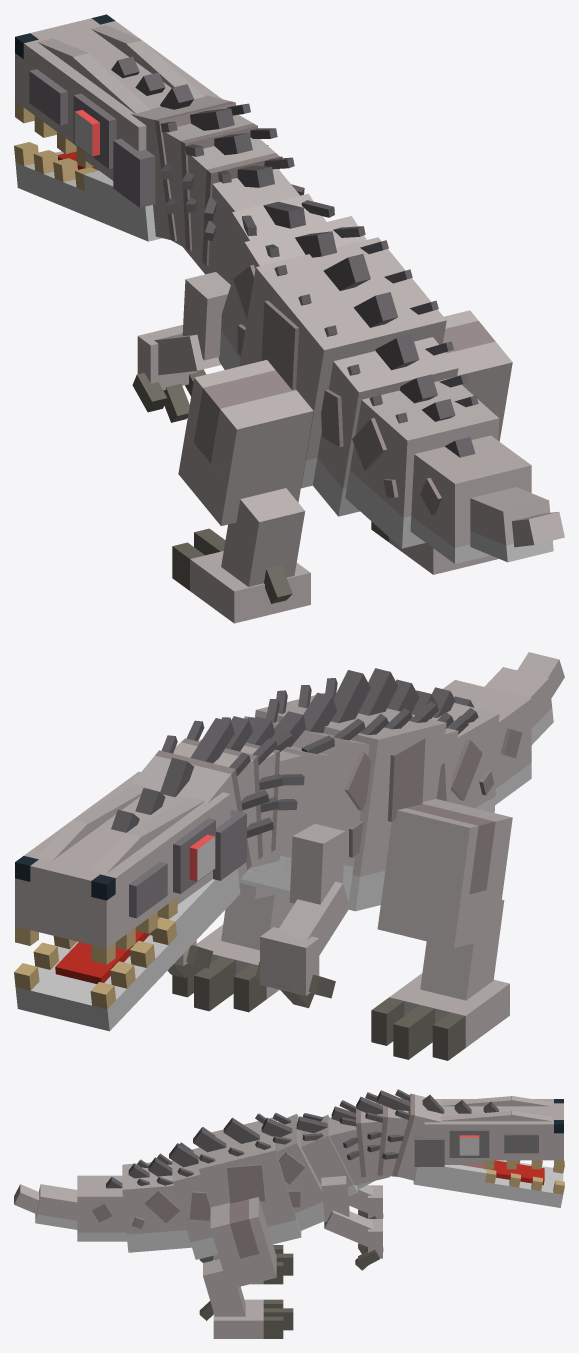
File: irex.obj
3 views of the same model, one above another, from view 1: azimuth 30°, elevation 25°; view 2: azimuth 150°, elevation 25°; view 3: azimuth 270°, elevation 25° (orthographic). The views are drawn at different scales.
Parts seen in each view (by area): view 1: Head, LowerTorso, Tail, LeftUpperLeg, UpperTorso, LeftUpperArm, LeftLowerLeg, LeftFoot, RightUpperLeg, RightFoot; view 2: Head, LowerTorso, LeftUpperLeg, Tail, UpperTorso, LeftUpperArm, LeftFoot, RightFoot, LeftLowerLeg, RightLowerLeg, RightUpperArm, Head_decal2; view 3: Head, LowerTorso, Tail, UpperTorso, RightUpperLeg, RightUpperArm, RightFoot, RightLowerLeg, LeftUpperArm, LeftFoot, Head_decal1.
Part boxes in pixels (x1=…): Head: x1=14, y1=14, x2=304, y2=274; LowerTorso: x1=239, y1=237, x2=458, y2=516; Tail: x1=345, y1=374, x2=564, y2=563; LeftUpperLeg: x1=178, y1=360, x2=313, y2=525; UpperTorso: x1=213, y1=193, x2=366, y2=369; LeftUpperArm: x1=132, y1=272, x2=230, y2=422; LeftLowerLeg: x1=221, y1=488, x2=305, y2=603; LeftFoot: x1=172, y1=528, x2=310, y2=623; RightUpperLeg: x1=443, y1=310, x2=512, y2=441; RightFoot: x1=371, y1=521, x2=498, y2=574; Head: x1=14, y1=716, x2=304, y2=1031; LowerTorso: x1=239, y1=668, x2=458, y2=911; LeftUpperLeg: x1=377, y1=799, x2=512, y2=947; Tail: x1=411, y1=652, x2=564, y2=812; UpperTorso: x1=241, y1=692, x2=371, y2=900; LeftUpperArm: x1=255, y1=823, x2=350, y2=1008; LeftFoot: x1=371, y1=973, x2=509, y2=1060; RightFoot: x1=172, y1=924, x2=279, y2=1012; LeftLowerLeg: x1=420, y1=899, x2=504, y2=1000; RightLowerLeg: x1=221, y1=893, x2=294, y2=950; RightUpperArm: x1=167, y1=940, x2=213, y2=978; Head_decal2: x1=197, y1=837, x2=214, y2=880; Head: x1=329, y1=1089, x2=564, y2=1207; LowerTorso: x1=169, y1=1113, x2=301, y2=1259; Tail: x1=14, y1=1153, x2=191, y2=1252; UpperTorso: x1=261, y1=1113, x2=357, y2=1230; RightUpperLeg: x1=210, y1=1197, x2=276, y2=1289; RightUpperArm: x1=321, y1=1176, x2=383, y2=1270; RightFoot: x1=213, y1=1299, x2=293, y2=1338; RightLowerLeg: x1=199, y1=1259, x2=245, y2=1320; LeftUpperArm: x1=348, y1=1185, x2=383, y2=1218; LeftFoot: x1=213, y1=1245, x2=293, y2=1284; Head_decal1: x1=459, y1=1137, x2=479, y2=1155.
Size of the model in its own units: 18 by 23.15 by 55.38.
